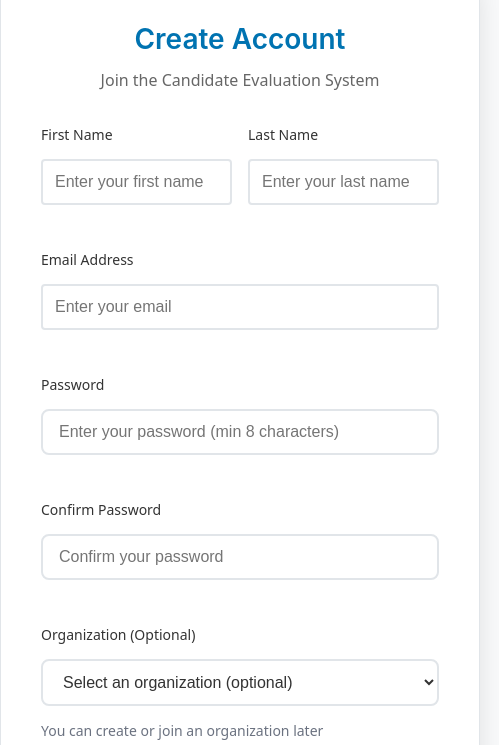
Scenario: RegisterForm › shows error for weak password
This screenshot has width=499, height=745.
Type "John" into the field labelled "First Name". click: {"x": 136, "y": 182}
box: [41,159,232,205]
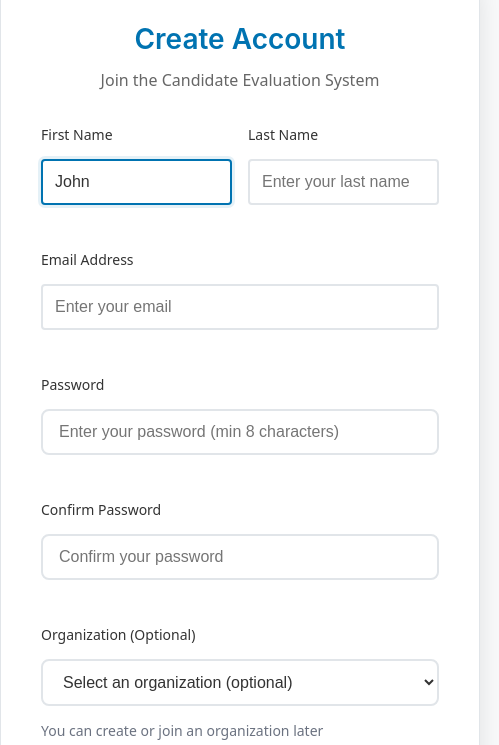
Type "Doe" into the field labelled "Last Name". click: {"x": 344, "y": 182}
box: [248,159,439,205]
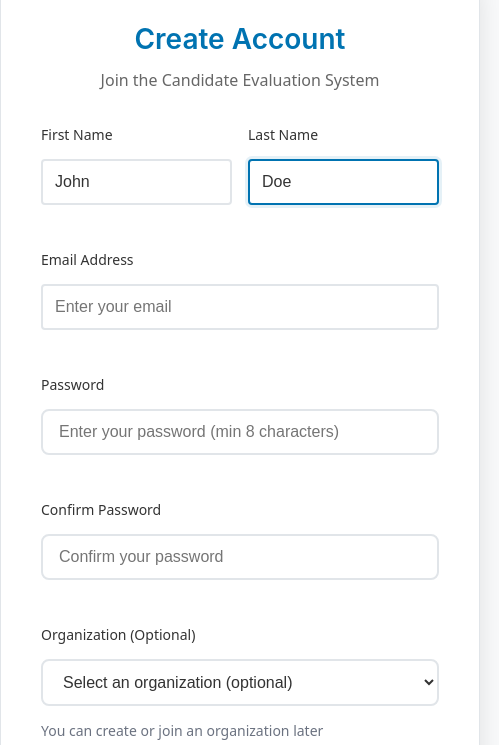
Type "john@example.com" into the field labelled "Email Address". click: {"x": 240, "y": 307}
box: [41,284,439,330]
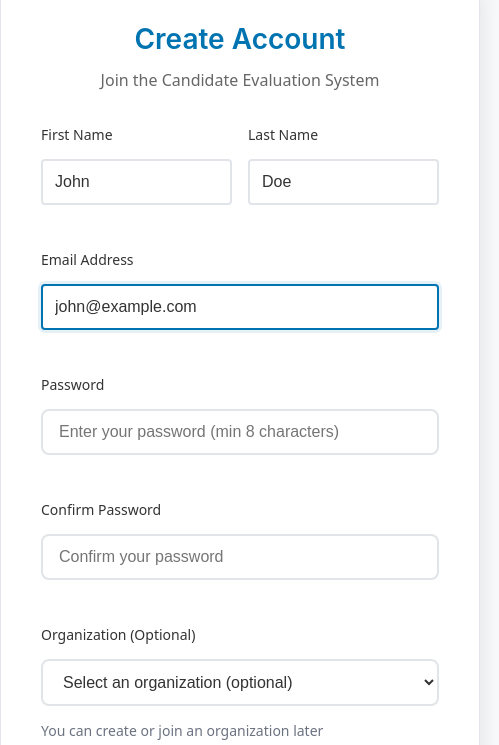
Type "123" into the password field labelled "Password". click: {"x": 240, "y": 432}
box: [41,409,439,455]
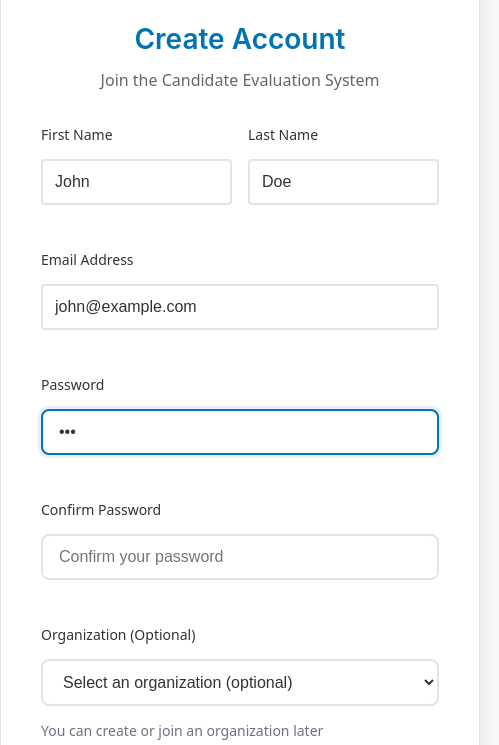
Type "123" into the password field labelled "Confirm Password". click: {"x": 240, "y": 557}
box: [41,534,439,580]
(page scrolled)
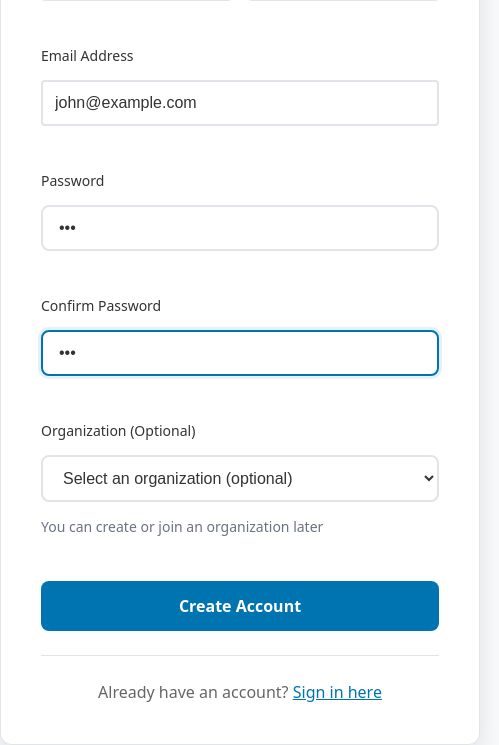
Click the button "Create Account". click: {"x": 240, "y": 606}
box: [41,581,439,631]
(page scrolled)
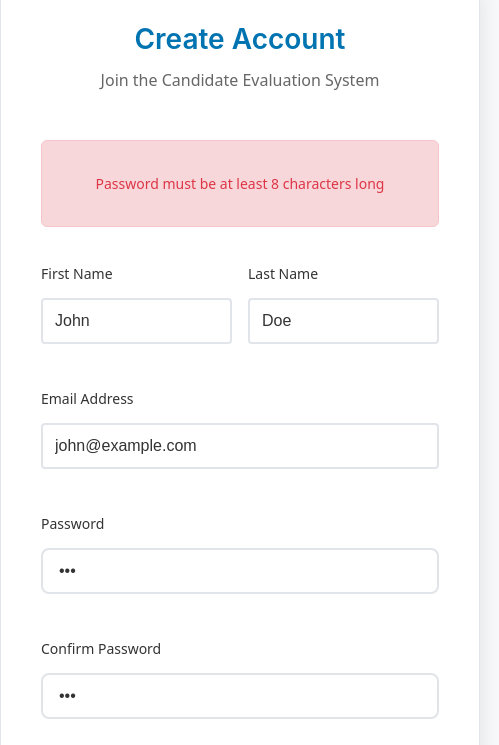
Result: the text "Password must be at least 8 characters long" is shown at [41,140,439,227]
